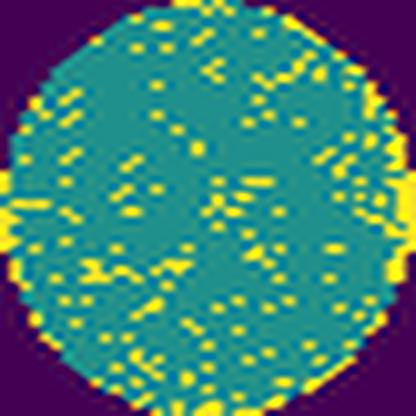Edge-Loc: (359, 80, 416, 286), (0, 169, 19, 261)
